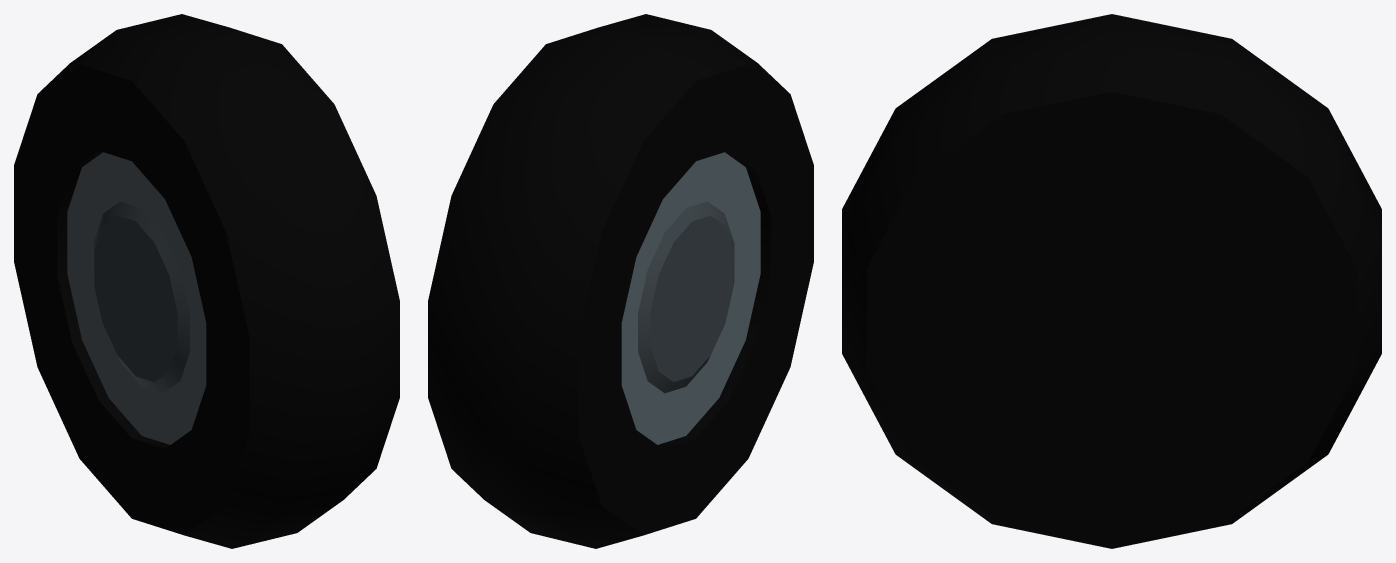
File: tireLoader.fbx
3 views of the same model, side by side, from view 1: azimuth 30°, elevation 25°; view 2: azimuth 150°, elevation 25°; view 3: azimuth 270°, elevation 25° (orthographic). The views are drawn at different scales.
Visible parts, largest first — view 1: tireLoader; view 2: tireLoader; view 3: tireLoader.
Part boxes in pixels (box(x1,y1,x2,y2)): tireLoader: box(14, 14, 399, 548); tireLoader: box(428, 14, 813, 548); tireLoader: box(842, 14, 1381, 548).
Bounding box in the file's own units: 0.1128 × 0.3462 × 0.3375.
